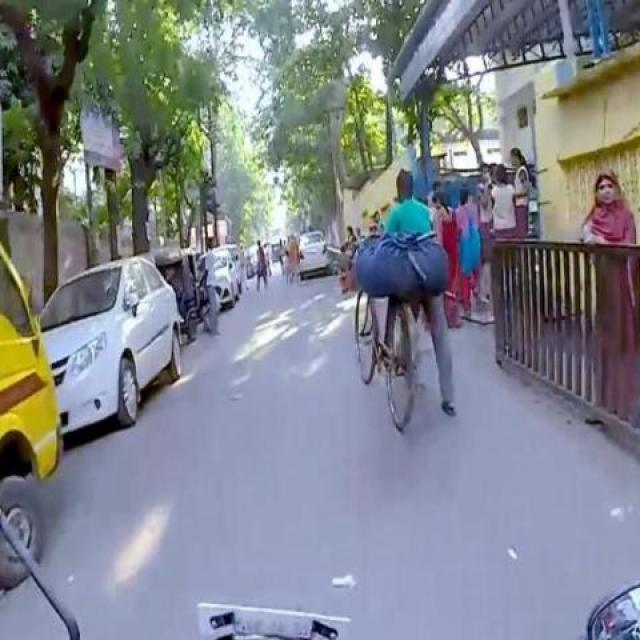Unmarked Bump: (288, 274, 340, 289), (244, 282, 284, 298)
